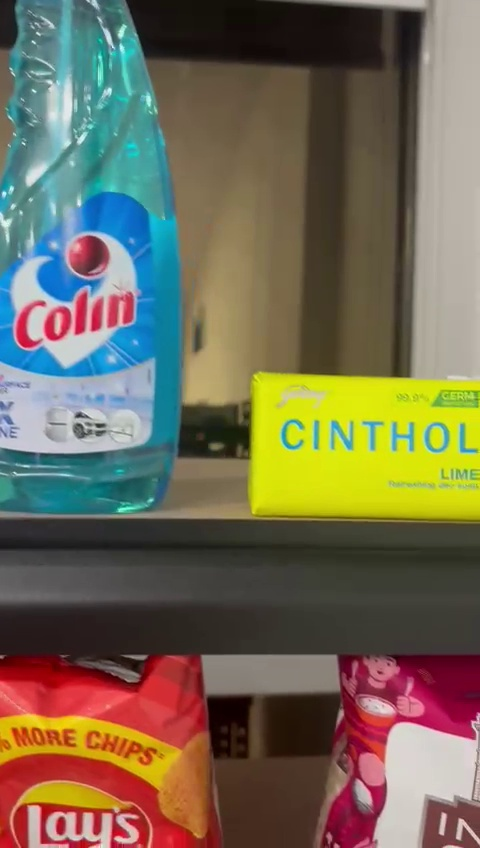Cinthol: (251, 374, 480, 523)
